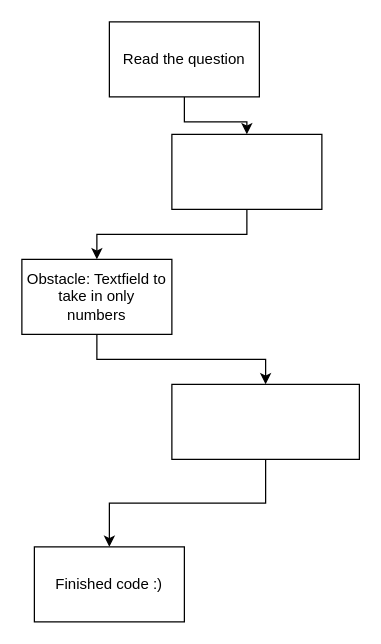
This 381x644 diagram has some shape labels left out. The centre of each missing label's shape, as x and y in pixels:
"Easily finished 90% of the code" belongs at pixel 246 171.
"solved the problem in previous lab" belongs at pixel 265 421.
